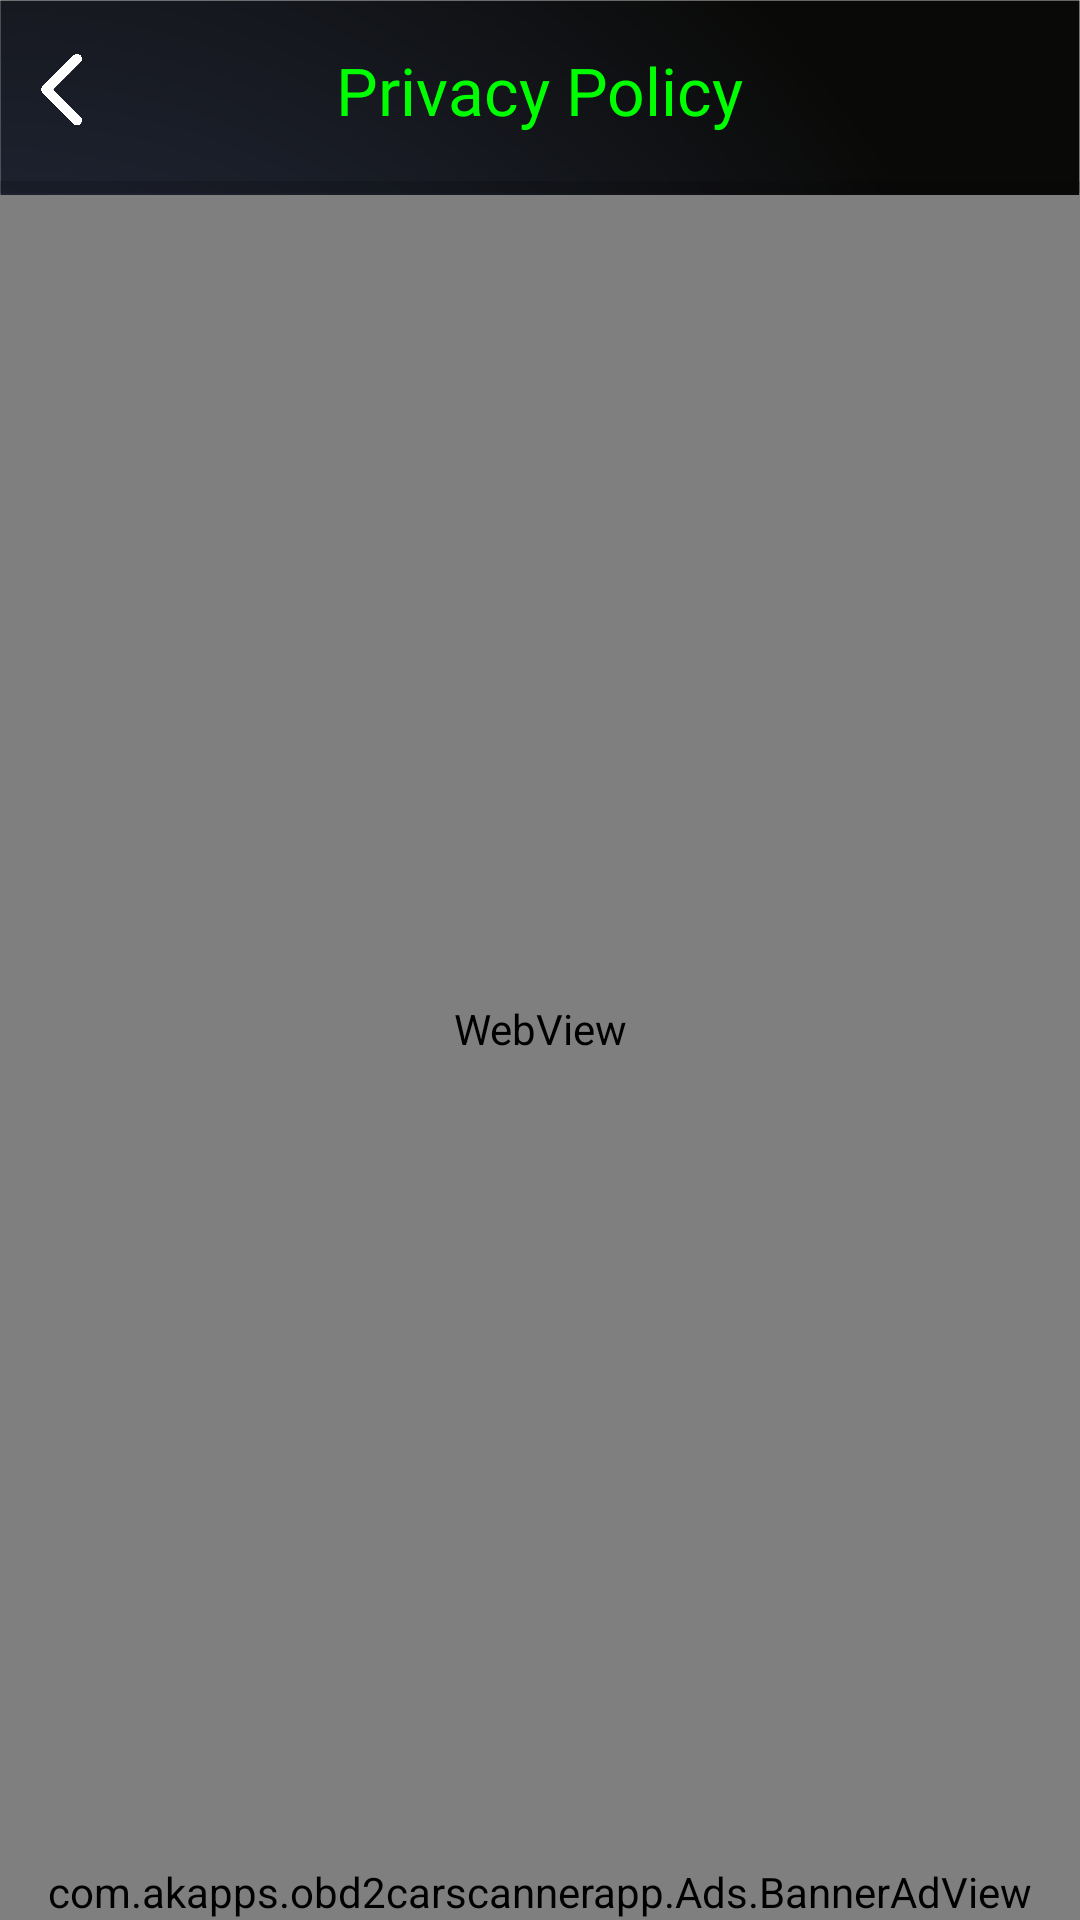

Icons on this 1080px x 1920px Android screen, each with the point to tap as [x,y]:
back: [61,89]
